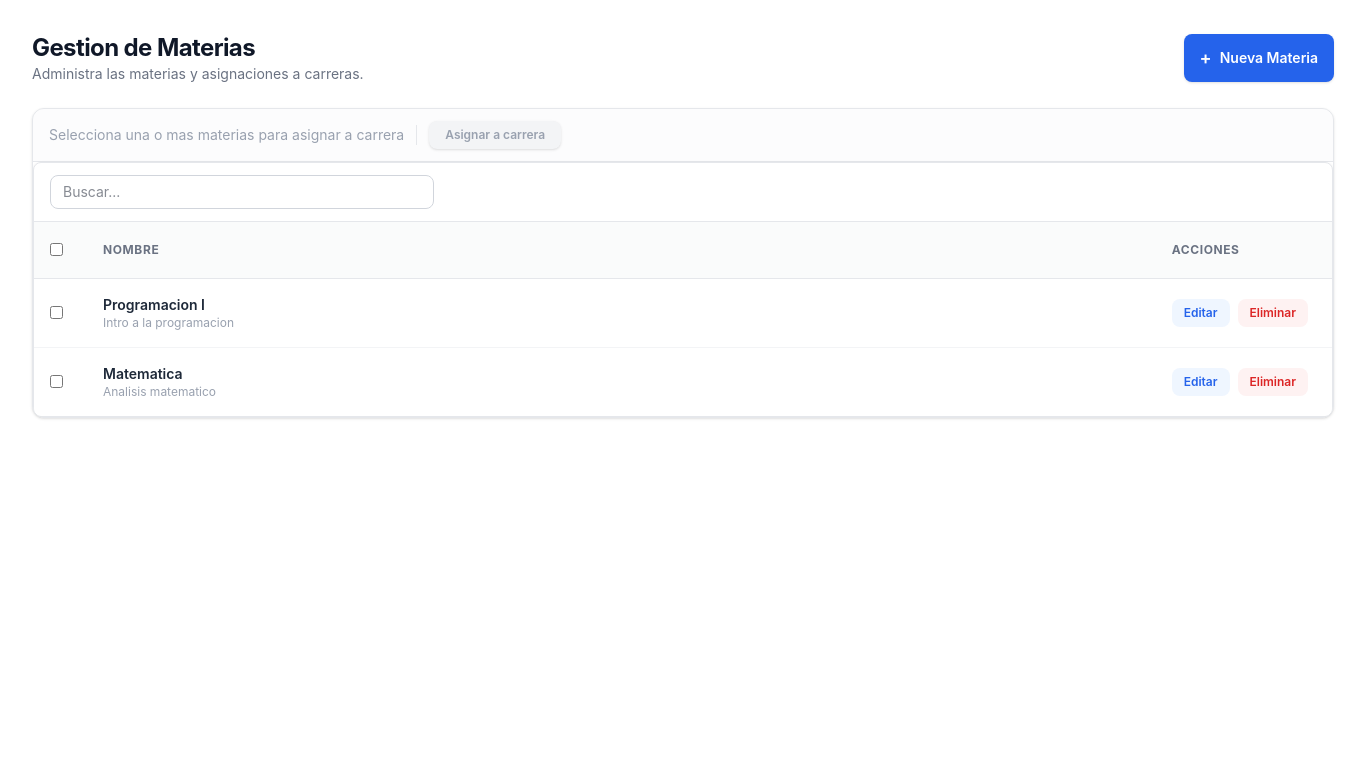
Test: AdminMateriasPage › cierra el modal al hacer click en Cancelar
The width and height of the screenshot is (1366, 768).
Click the checkbox next to "Programacion I".
click(56, 312)  # box [50,306,63,319]
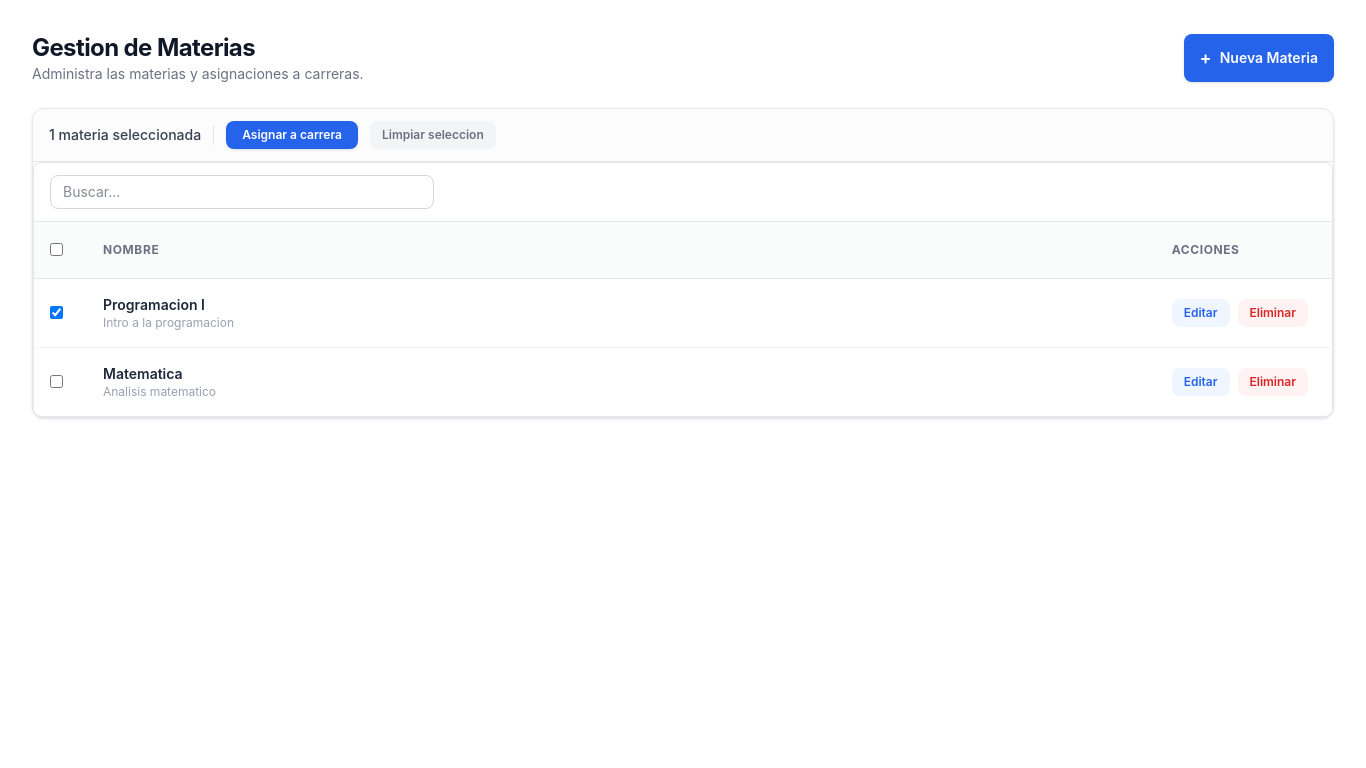
Click the button "Asignar a carrera".
click(292, 135)  # box [226,121,358,149]
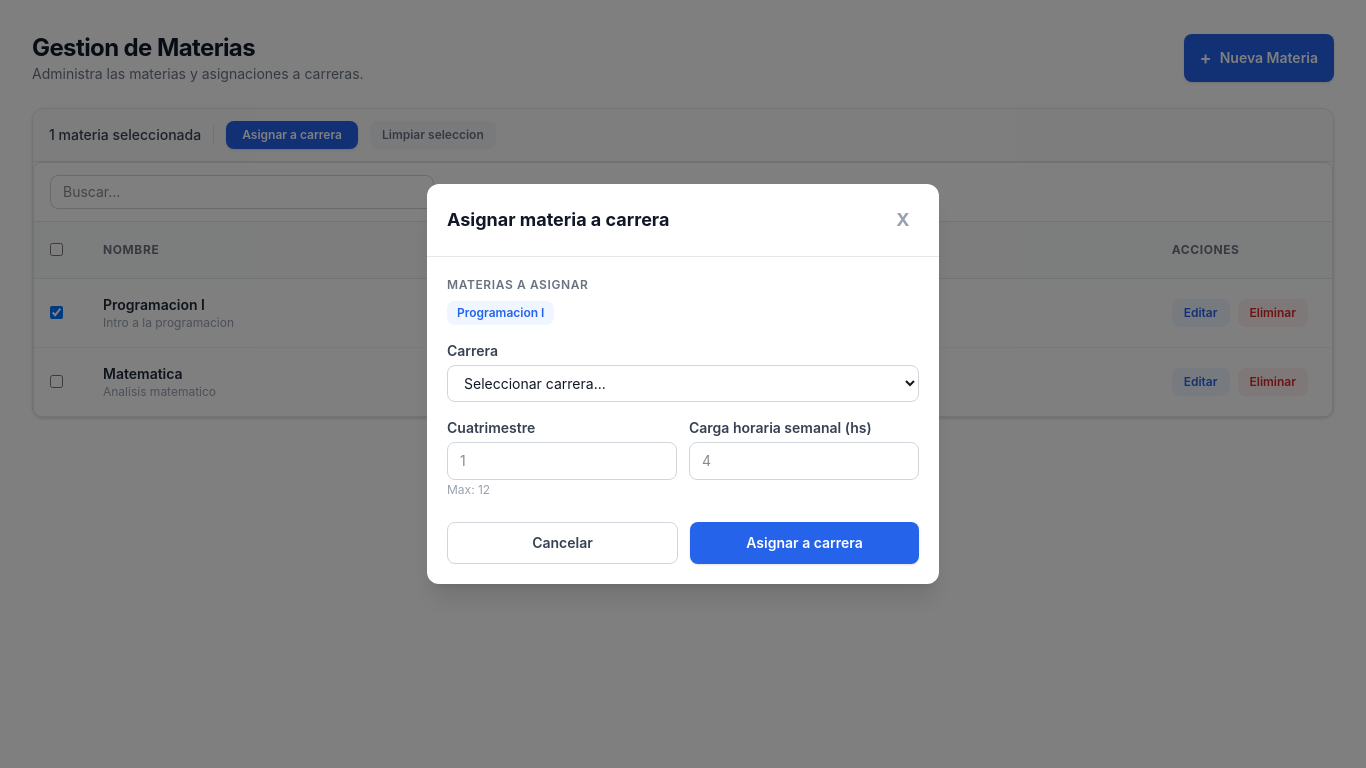
Result: the heading "Asignar materia a carrera" is shown at [447,206,669,234]
Click the button "Cancelar".
click(562, 543)  # box [447,522,678,564]
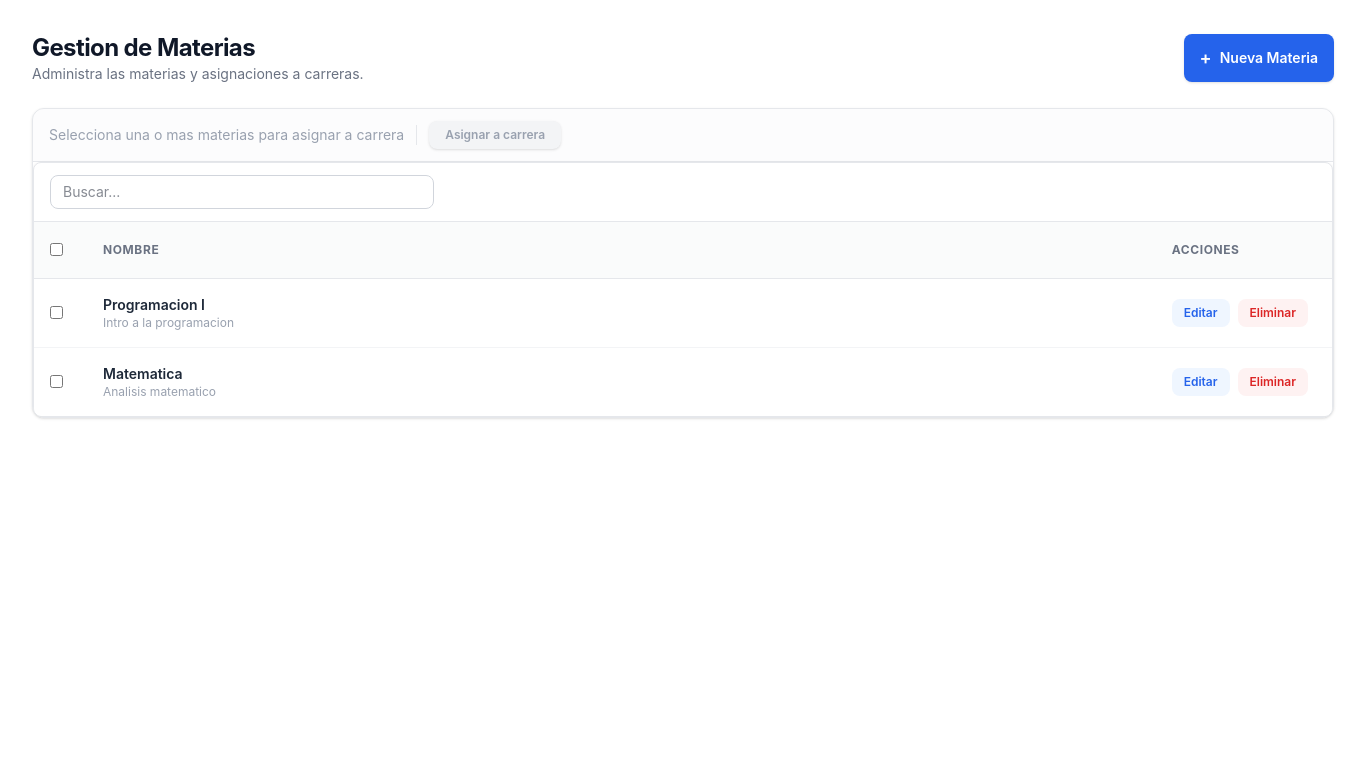
Result: the heading "Asignar materia a carrera" is gone
